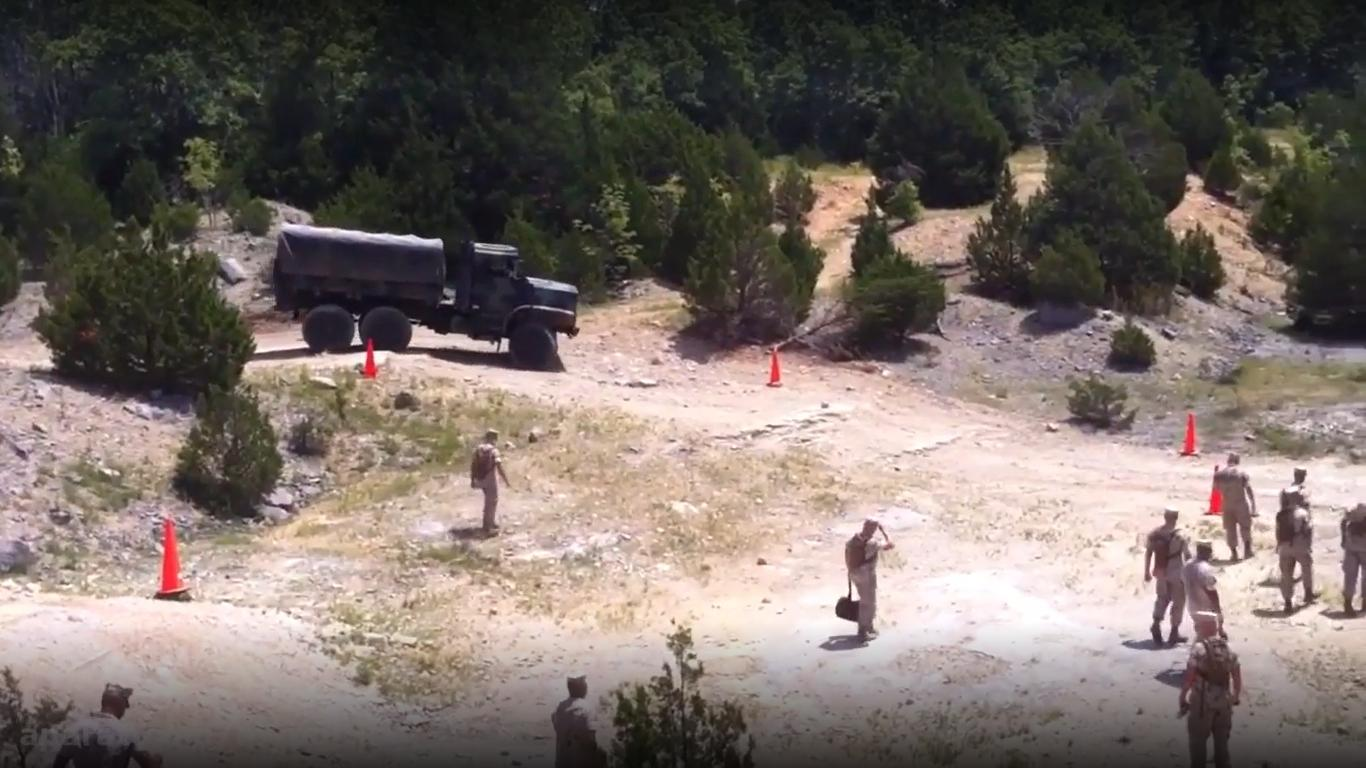truck: (269, 219, 587, 376)
